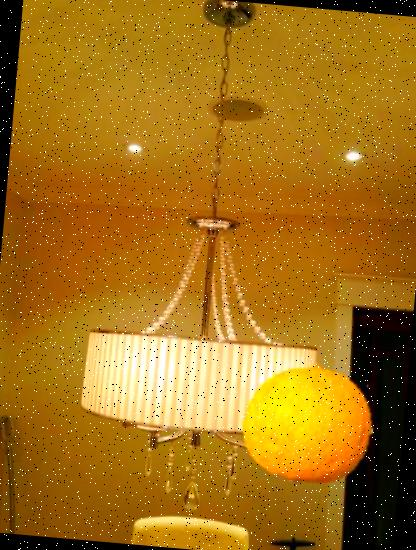Cantaloupe: (237, 353, 379, 495)
